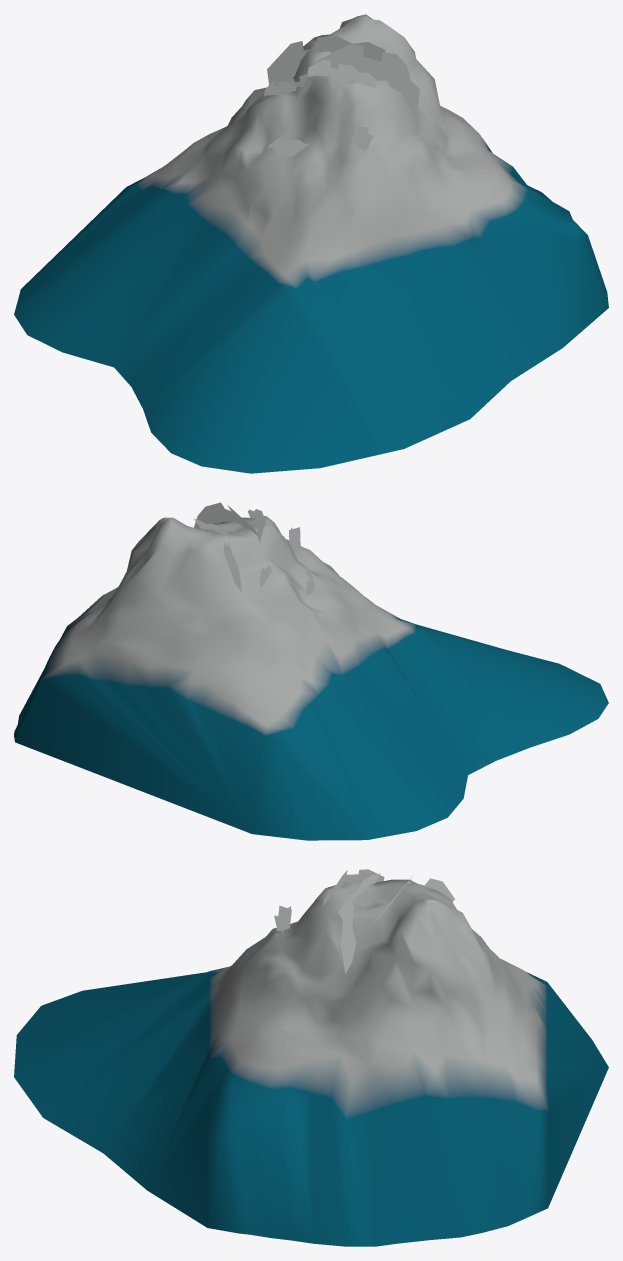
3 views of the same model, one above another, from view 1: azimuth 30°, elevation 25°; view 2: azimuth 150°, elevation 25°; view 3: azimuth 270°, elevation 25° (orthographic). The views are drawn at different scales.
Parts seen in each view (by area): view 1: G:\FFXIV-MapTools\exports\s1f3\bg\ffxiv\sea_s1\fld\s1f3\bgpa (×4); view 2: G:\FFXIV-MapTools\exports\s1f3\bg\ffxiv\sea_s1\fld\s1f3\bgpa (×4); view 3: G:\FFXIV-MapTools\exports\s1f3\bg\ffxiv\sea_s1\fld\s1f3\bgpa (×4).
Boxes of the visible parts, x1=… form: G:\FFXIV-MapTools\exports\s1f3\bg\ffxiv\sea_s1\fld\s1f3\bgpa (×4): x1=14, y1=14, x2=608, y2=473; G:\FFXIV-MapTools\exports\s1f3\bg\ffxiv\sea_s1\fld\s1f3\bgpa (×4): x1=14, y1=502, x2=608, y2=840; G:\FFXIV-MapTools\exports\s1f3\bg\ffxiv\sea_s1\fld\s1f3\bgpa (×4): x1=14, y1=869, x2=608, y2=1246.
Bounding box in the file's own units: 38.57 × 18.09 × 37.22.
